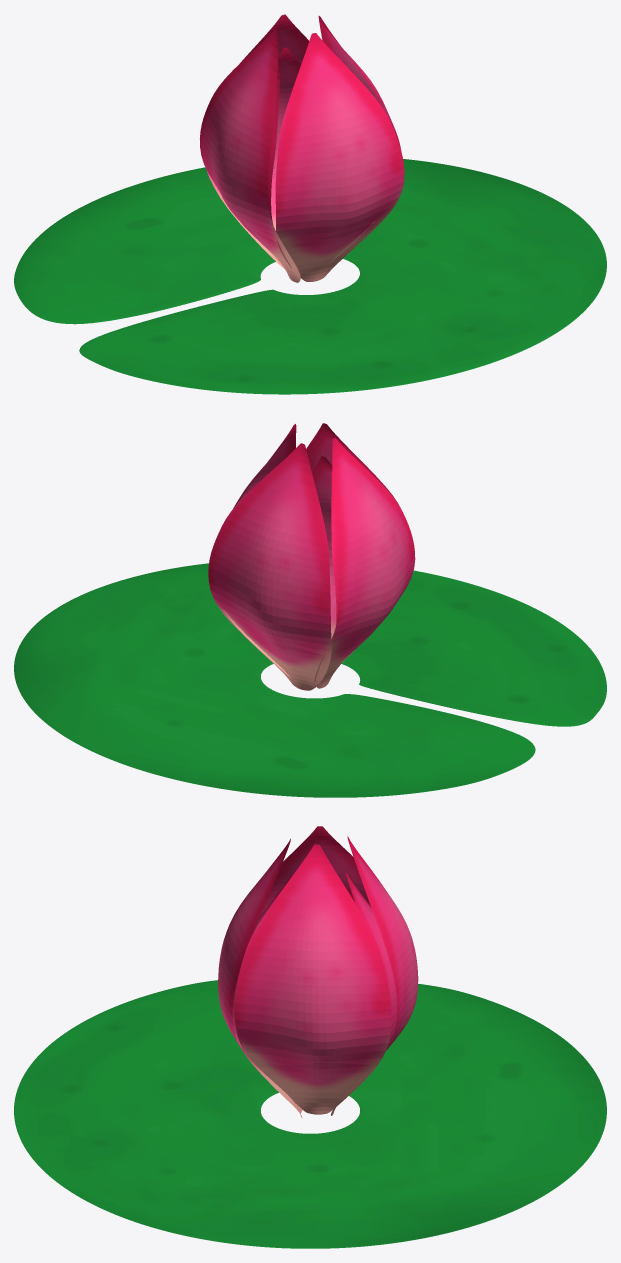
File: planta_modelo.glb
3 renders of one model, top to bottom at view 1: azimuth 30°, elevation 25°; view 2: azimuth 150°, elevation 25°; view 3: azimuth 270°, elevation 25°, orthographic. The views are drawn at different scales.
Parts seen in each view (by area): view 1: Circle.002, Petalo.002, Petalo.001, Petalo.010, Petalo.004, Petalo.009, Petalo.012, Petalo.003; view 2: Circle.002, Petalo.004, Petalo.001, Petalo.012, Petalo.002, Petalo.010, Petalo.003, Petalo.009; view 3: Circle.002, Petalo.003, Petalo.004, Petalo.002, Petalo.011, Petalo.001, Petalo.012.
Part boxes in pixels (x1,y1,x2,y2): Circle.002: (14, 159, 606, 394); Petalo.002: (275, 33, 404, 281); Petalo.001: (200, 27, 300, 282); Petalo.010: (282, 222, 379, 281); Petalo.004: (207, 14, 309, 268); Petalo.009: (240, 60, 299, 281); Petalo.012: (272, 47, 301, 179); Petalo.003: (318, 16, 400, 264); Circle.002: (14, 563, 606, 797); Petalo.004: (208, 443, 331, 690); Petalo.001: (314, 438, 415, 688); Petalo.012: (234, 624, 327, 690); Petalo.002: (306, 423, 400, 662); Petalo.010: (312, 456, 334, 585); Petalo.003: (223, 424, 296, 677); Petalo.009: (318, 471, 379, 687); Circle.002: (14, 980, 606, 1248); Petalo.003: (234, 844, 391, 1114); Petalo.004: (331, 836, 418, 1115); Petalo.002: (218, 838, 302, 1117); Petalo.011: (254, 1059, 373, 1114); Petalo.001: (261, 826, 370, 914); Petalo.012: (332, 872, 397, 1114).
Size of the model in its own units: 1.65 by 0.7854 by 1.53.
2 materials, 2 textured.
